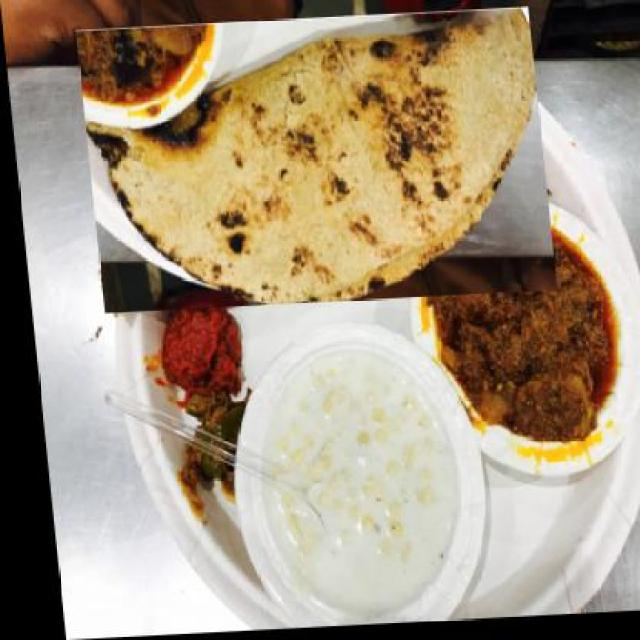chapati: (74, 12, 552, 316)
